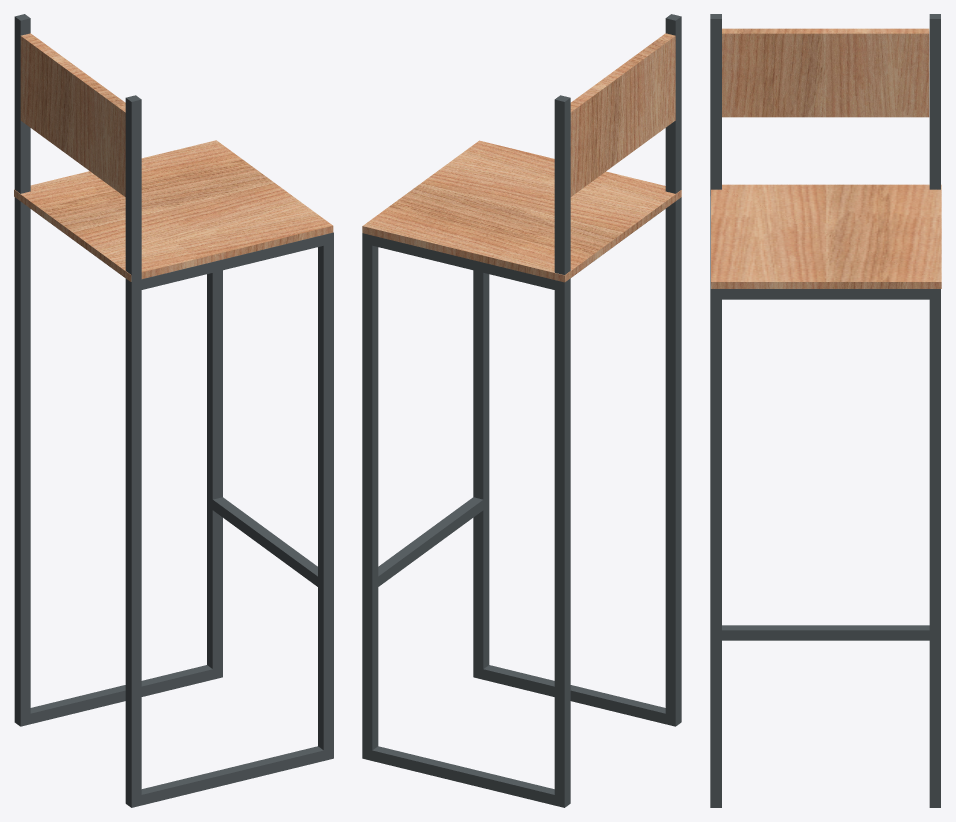
Rendered from krzeslo-barowe.glb.
3 renders of one model, left to right at view 1: azimuth 30°, elevation 25°; view 2: azimuth 150°, elevation 25°; view 3: azimuth 270°, elevation 25°, orthographic.
Visible parts, largest first — view 1: Solid1 (×3); view 2: Solid1 (×3); view 3: Solid1 (×3).
Boxes of the visible parts, x1,y1,x2,y2 form: Solid1 (×3): [14, 14, 333, 807]; Solid1 (×3): [362, 14, 681, 807]; Solid1 (×3): [710, 14, 941, 807].
Bounding box in the file's own units: 0.3006 × 1 × 0.3007.
Materials: 2 (1 with a texture image).
